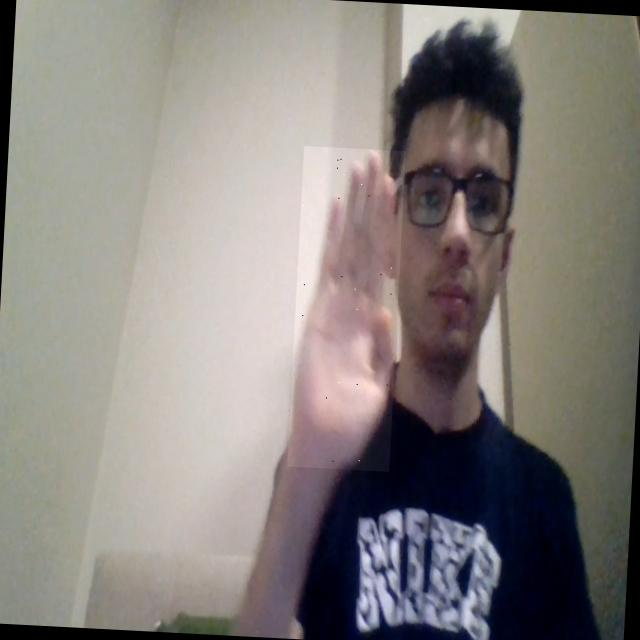hello: (287, 146, 406, 474)
